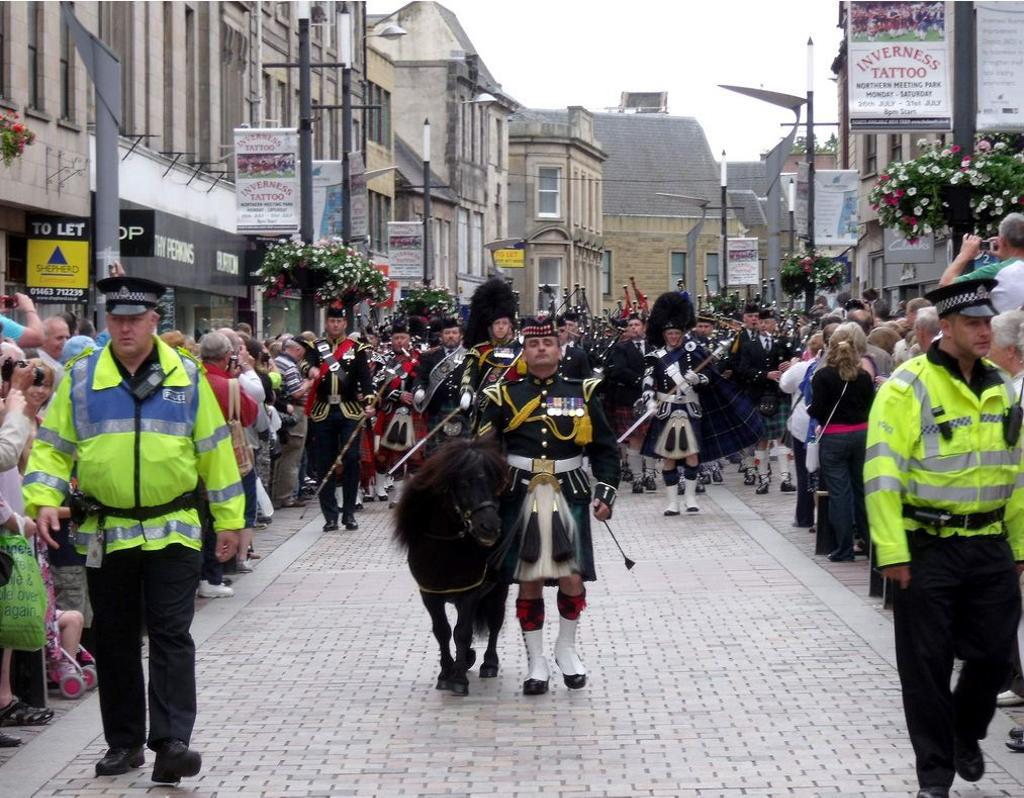face: (108, 305, 153, 355), (951, 303, 992, 356), (978, 322, 1006, 370), (526, 329, 560, 367), (24, 369, 53, 408), (43, 324, 71, 357), (443, 324, 461, 347), (493, 316, 509, 339), (328, 315, 345, 335), (393, 332, 409, 352), (666, 326, 680, 347), (744, 312, 760, 330), (906, 306, 919, 328), (628, 319, 643, 338), (697, 322, 712, 339), (760, 317, 773, 334), (555, 326, 567, 344), (296, 345, 307, 362), (565, 321, 576, 335), (367, 334, 377, 346), (796, 321, 805, 333)
